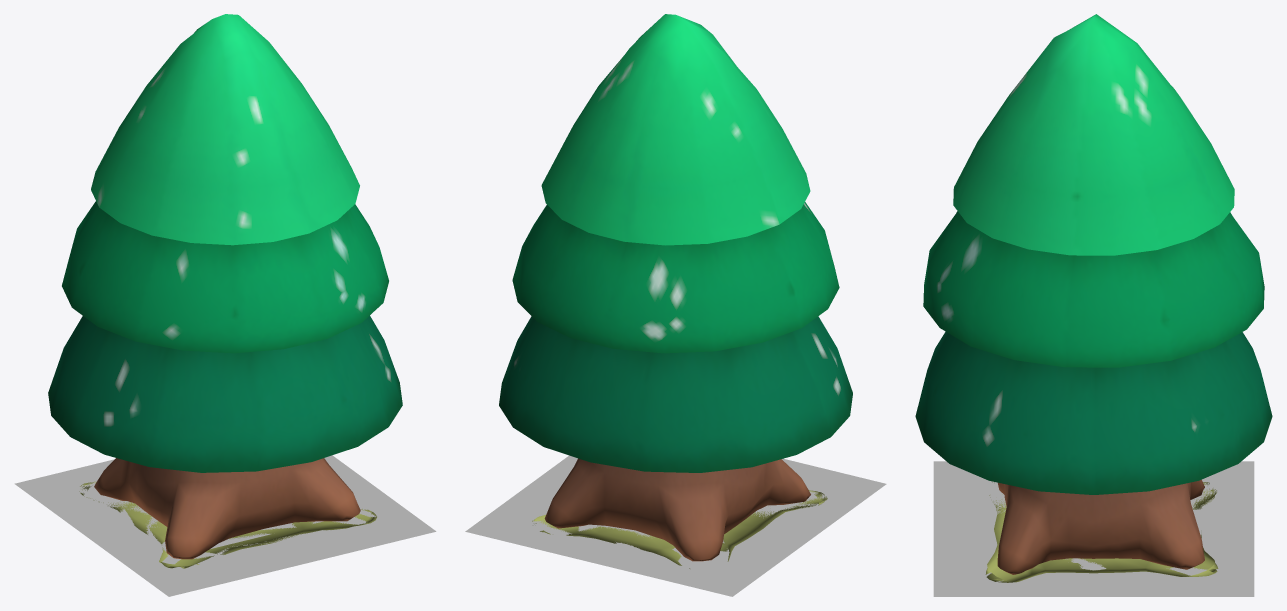
The model's file is PineTree.fbx.
3 renders of one model, left to right at view 1: azimuth 30°, elevation 25°; view 2: azimuth 150°, elevation 25°; view 3: azimuth 270°, elevation 25°, orthographic. The views are drawn at different scales.
Visible parts, largest first — view 1: PineTreeLeaves_Top, PineTreeLeaves, PineTreeLeaves_Middle, PineTreeScale, PineTreeTrunk, PineTreeShadow; view 2: PineTreeLeaves_Top, PineTreeLeaves, PineTreeLeaves_Middle, PineTreeScale, PineTreeTrunk, PineTreeShadow; view 3: PineTreeLeaves_Top, PineTreeLeaves, PineTreeLeaves_Middle, PineTreeScale, PineTreeTrunk, PineTreeShadow.
Part boxes in pixels (box(x1,y1,x2,y2)): PineTreeLeaves_Top: box(91, 14, 359, 245); PineTreeLeaves: box(48, 315, 402, 472); PineTreeLeaves_Middle: box(62, 201, 388, 353); PineTreeScale: box(14, 455, 436, 596); PineTreeTrunk: box(94, 458, 360, 559); PineTreeShadow: box(79, 481, 376, 568); PineTreeLeaves_Top: box(541, 14, 810, 245); PineTreeLeaves: box(499, 316, 852, 472); PineTreeLeaves_Middle: box(512, 202, 839, 353); PineTreeScale: box(465, 455, 886, 596); PineTreeTrunk: box(544, 458, 810, 561); PineTreeShadow: box(532, 490, 827, 568); PineTreeLeaves_Top: box(953, 14, 1234, 255); PineTreeLeaves: box(915, 331, 1272, 494); PineTreeLeaves_Middle: box(923, 211, 1264, 367); PineTreeScale: box(933, 461, 1254, 596); PineTreeTrunk: box(997, 480, 1204, 574); PineTreeShadow: box(985, 482, 1218, 582).
Bounding box in the file's own units: 232 × 352 × 223.
